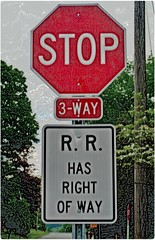StopSign: (30, 3, 126, 96)
